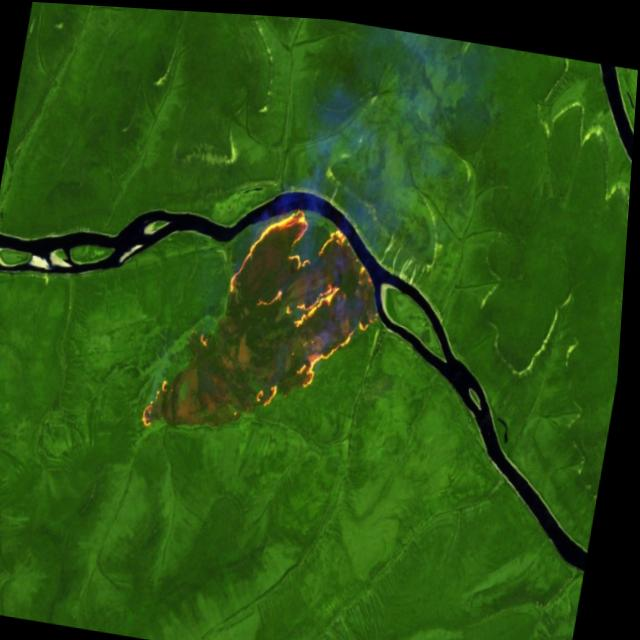fire: (141, 182, 401, 462)
